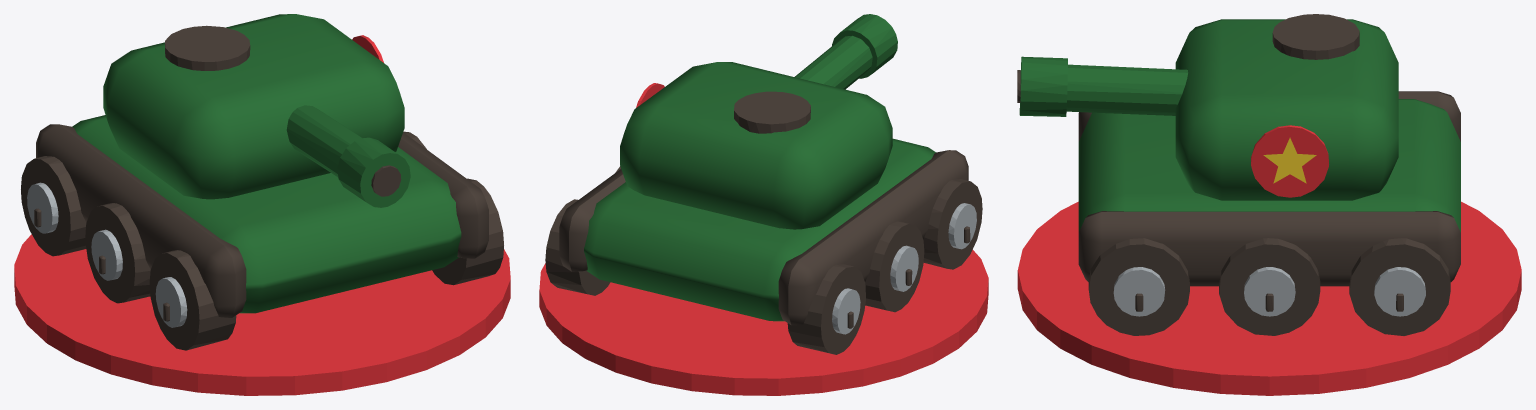
File: vietnam_tank_lod0.glb
3 renders of one model, left to right at view 1: azimuth 30°, elevation 25°; view 2: azimuth 150°, elevation 25°; view 3: azimuth 270°, elevation 25°, orthographic. The views are drawn at different scales.
Parts seen in each view (by area): view 1: body_hull, base_pedestal; view 2: body_hull, base_pedestal; view 3: body_hull, base_pedestal.
Part boxes in pixels (x1,y1,x2,y2): body_hull: (21,14,503,350); base_pedestal: (14,234,510,395); body_hull: (545,14,982,354); base_pedestal: (539,250,988,395); body_hull: (1017,14,1460,335); base_pedestal: (1017,201,1521,395).
Bounding box in the file's own units: 0.7791 × 0.4115 × 0.78.
